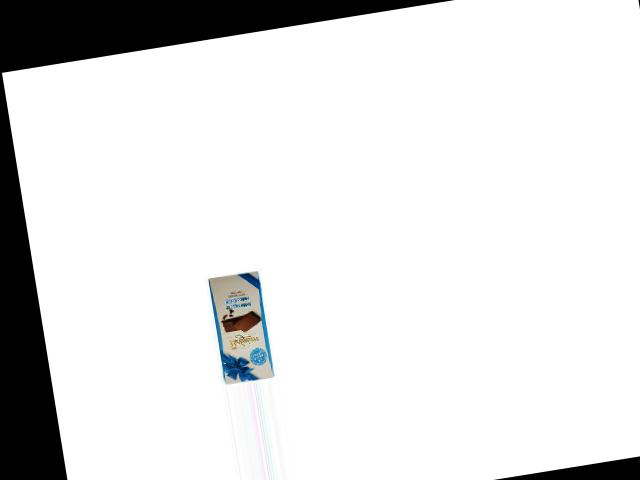chocolate: (200, 267, 279, 387)
